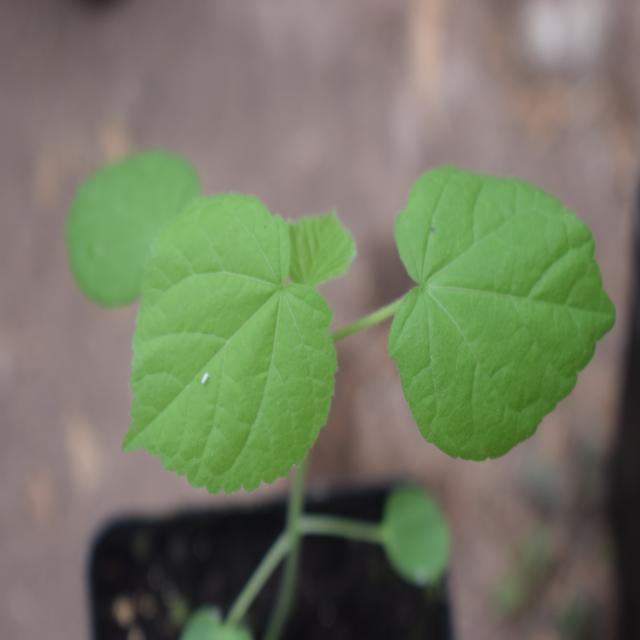abutilon theophrasti: (66, 116, 596, 528)
